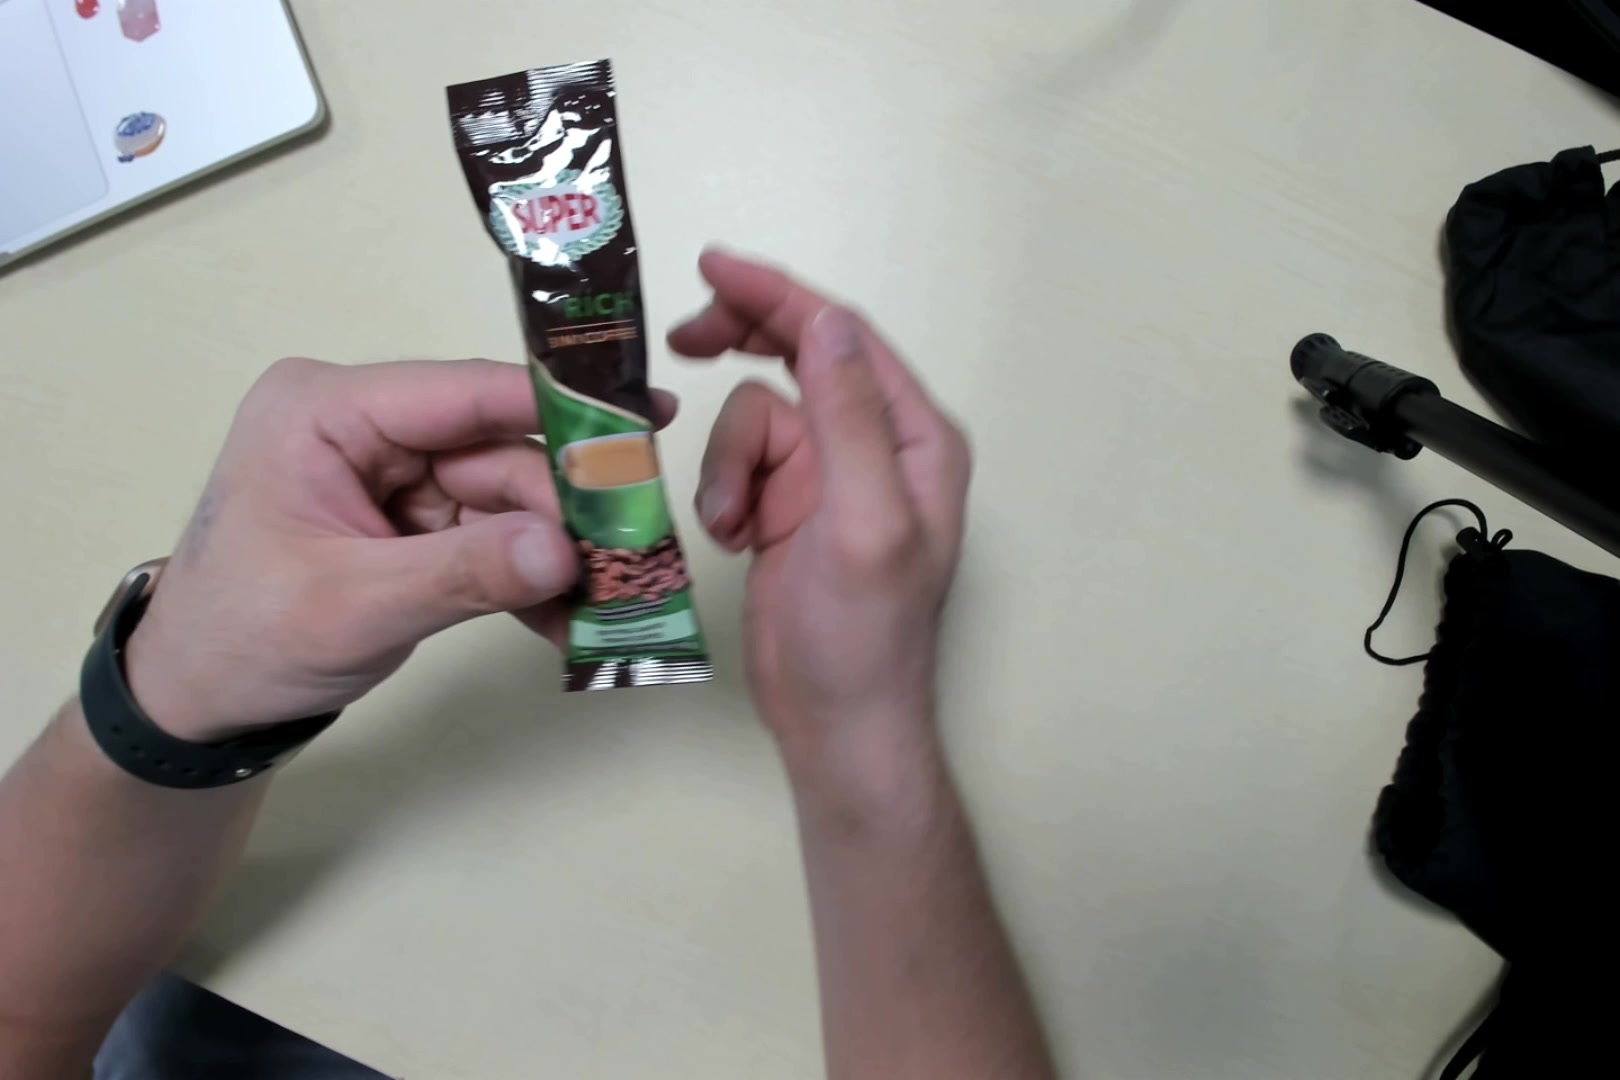Coffee(Powder)_0-99g_Halal_NonHealthy: (450, 84, 714, 693)
